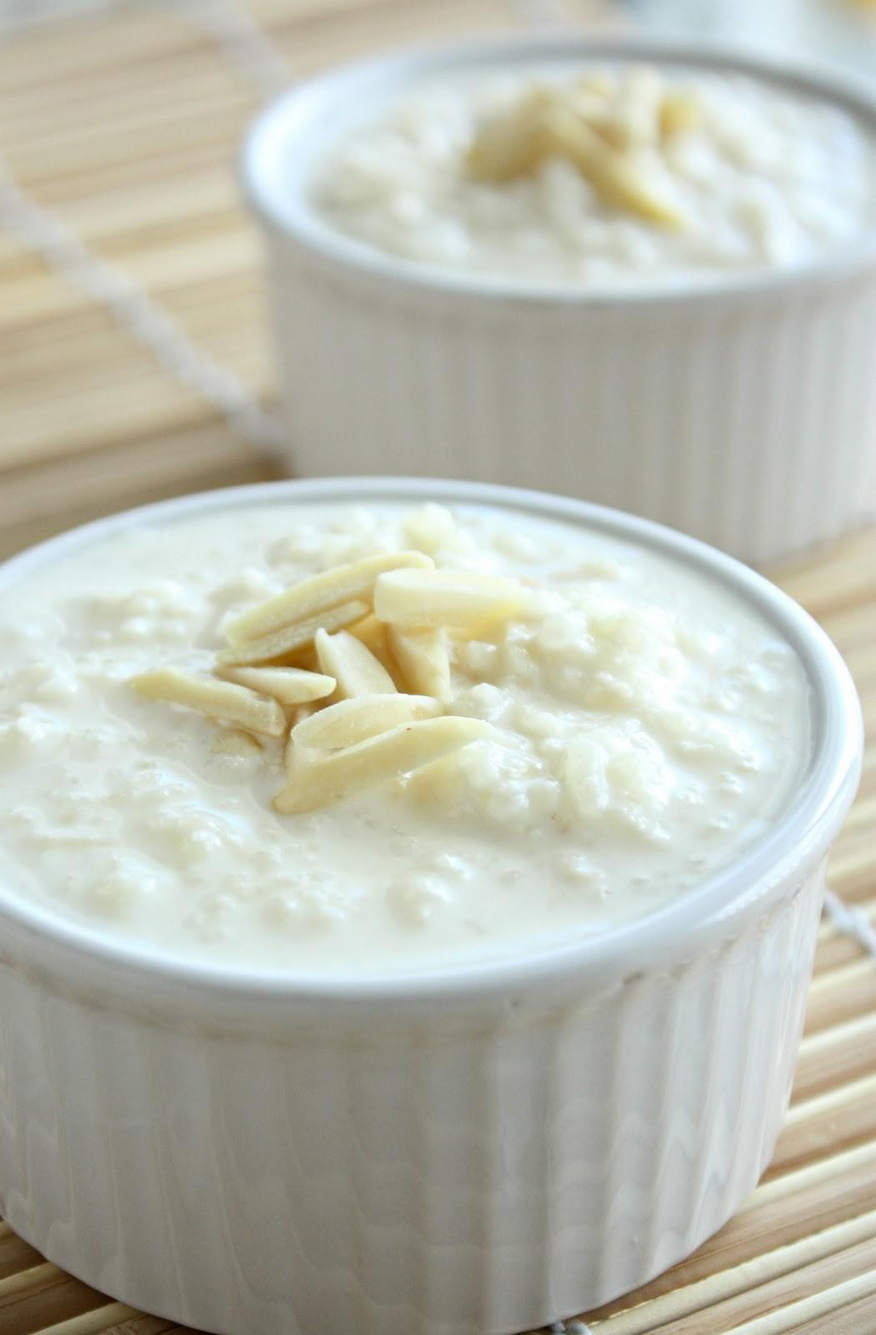Kheer: (6, 502, 821, 967), (314, 57, 876, 296)
